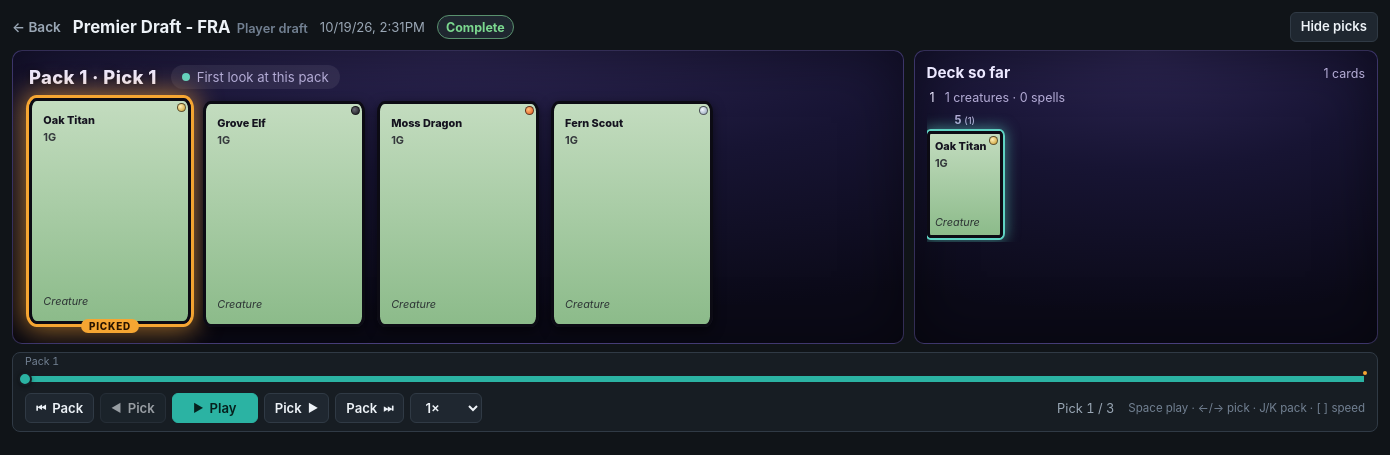
DraftReplayViewer › steps with the keyboard and hides picks until revealed
The width and height of the screenshot is (1390, 455).
Press ArrowRight
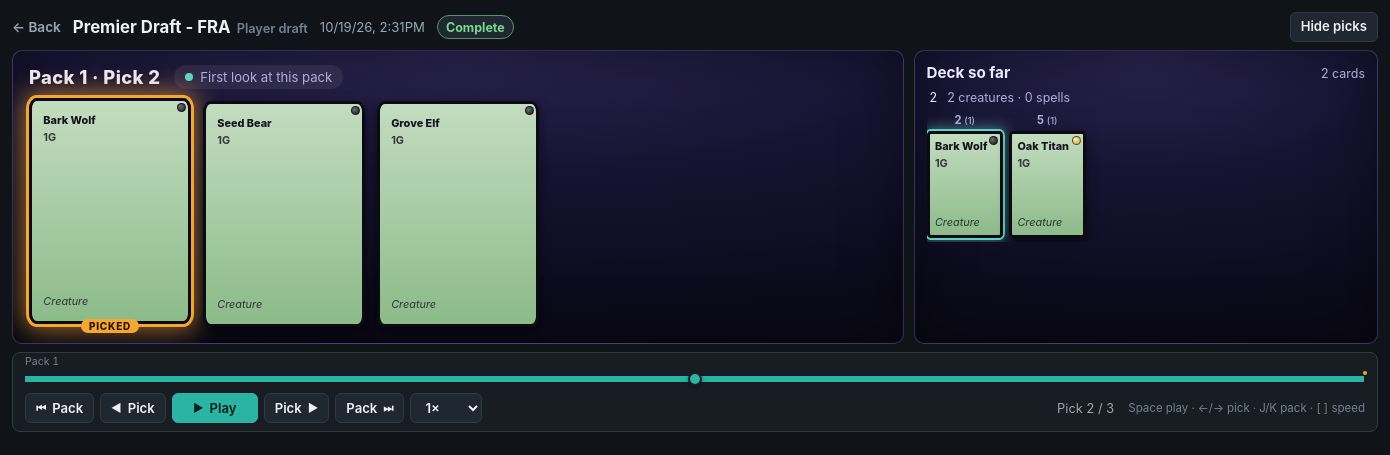
Check: the heading "Pack 1 · Pick 2" is shown, box [29,66,160,88]
Check: the text "2 cards" is shown, box [1321,66,1365,81]
Click the button "Hide picks" at coordinates (1334, 27), box [1290,12,1378,42]
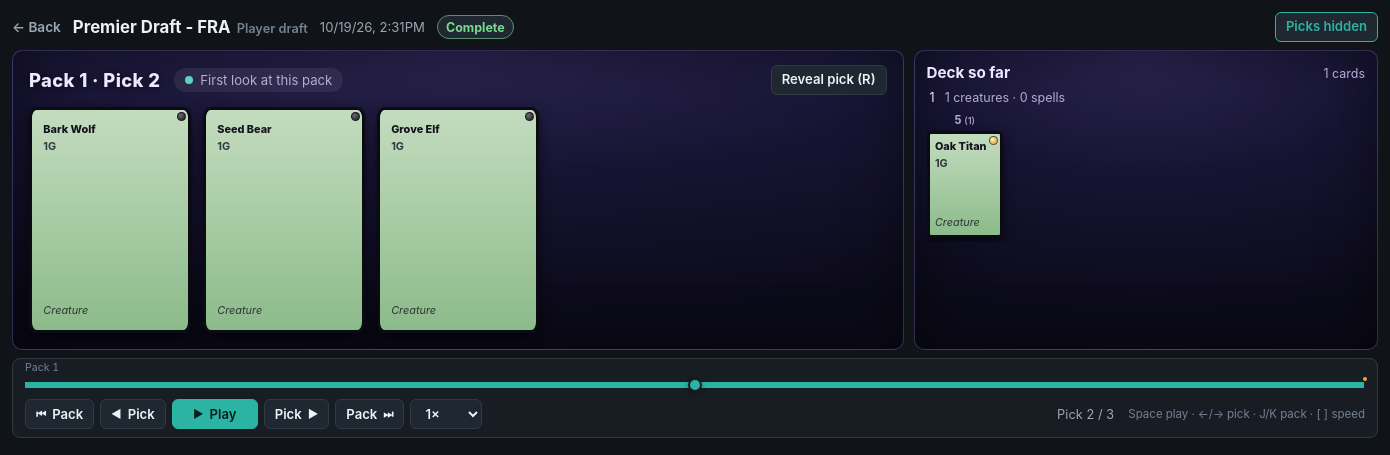
Check: the text "1 cards" is shown, box [1324,66,1365,81]
Click the button "Reveal pick (R)" at coordinates (829, 80), box [771,65,886,95]
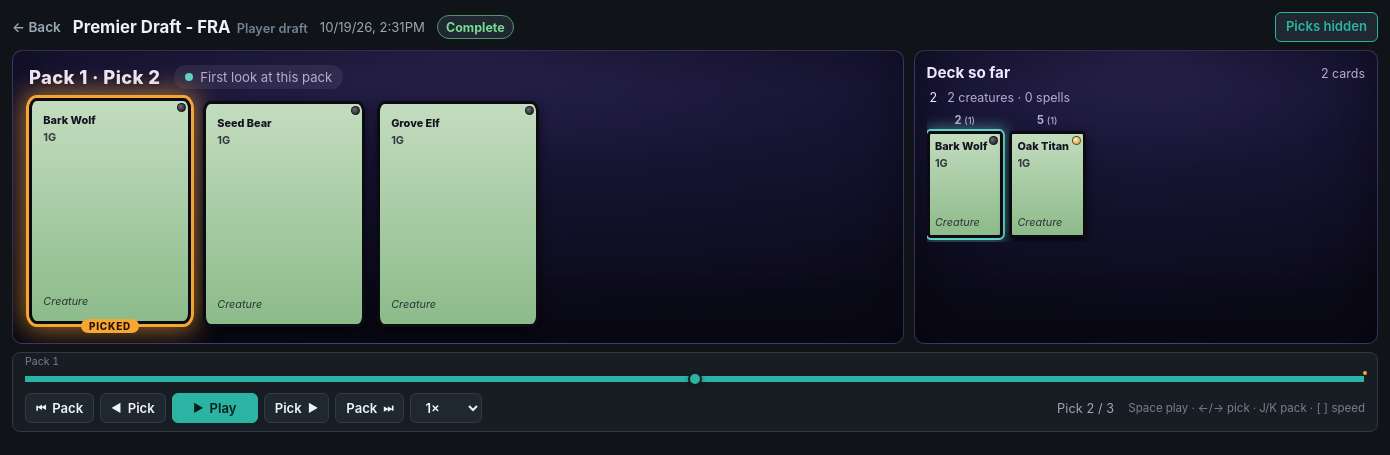
Check: the text "2 cards" is shown, box [1321,66,1365,81]
Press Home
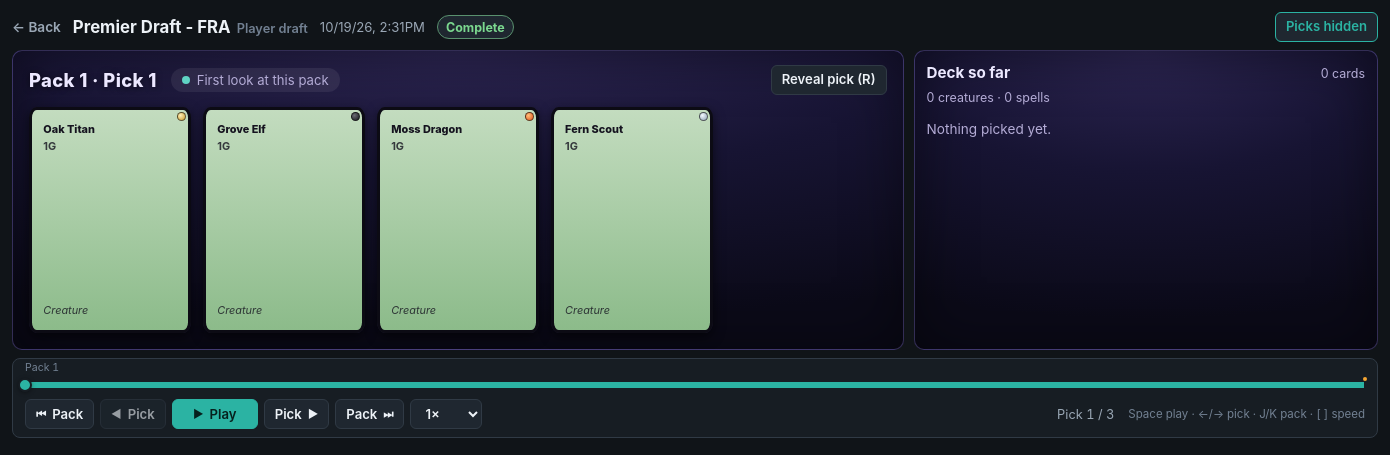
Check: the heading "Pack 1 · Pick 1" is shown, box [29,69,157,91]
